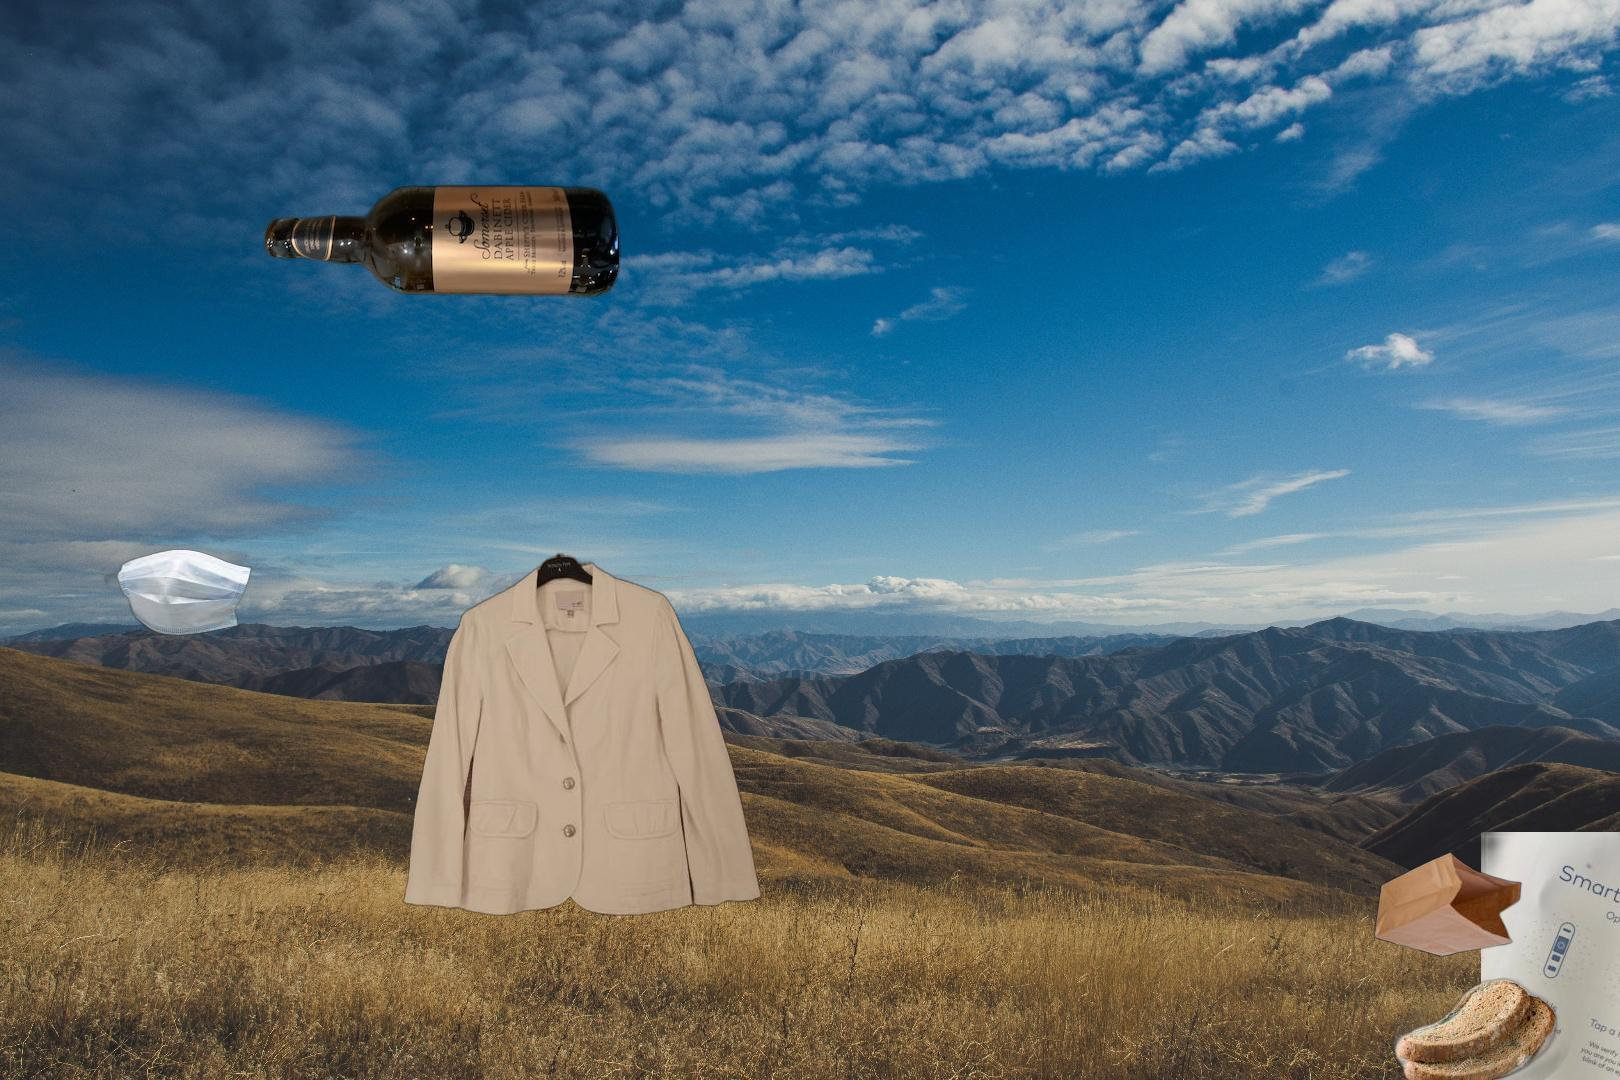biological: (1383, 953, 1573, 1080)
clothes: (401, 548, 765, 918)
glass: (260, 182, 624, 299)
paper: (1481, 832, 1620, 1080)
paper-bag: (1370, 849, 1609, 1019)
trash: (1509, 861, 1620, 1047), (102, 547, 254, 638)
